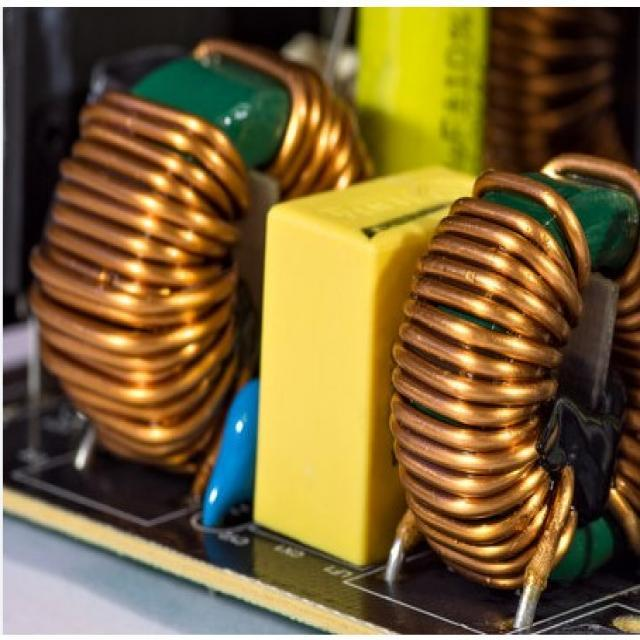Inductor: (31, 39, 370, 489), (386, 155, 640, 631)
